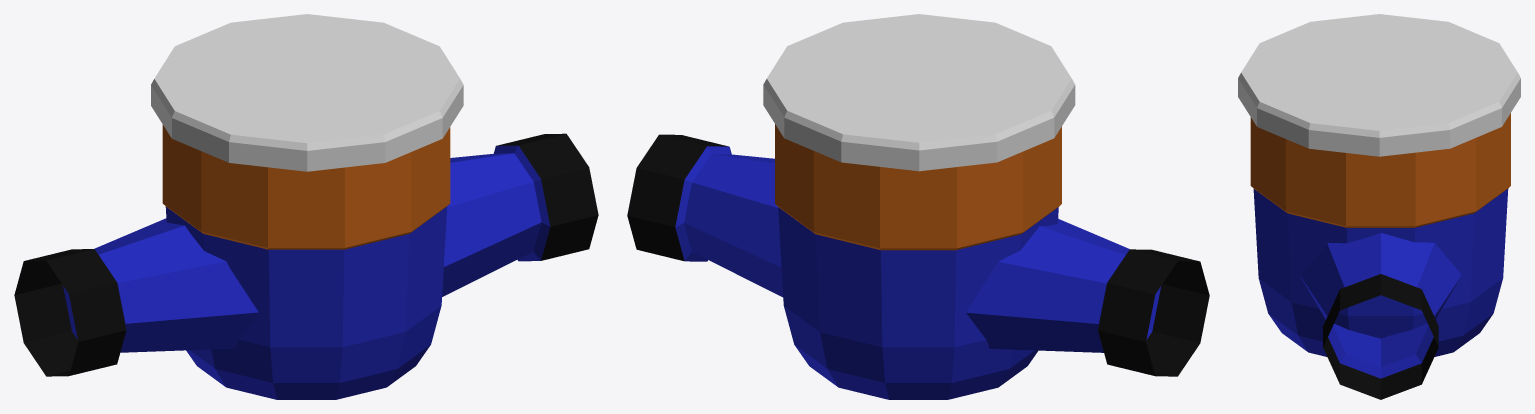
The model's file is MeterBox.fbx.
3 views of the same model, side by side, from view 1: azimuth 30°, elevation 25°; view 2: azimuth 150°, elevation 25°; view 3: azimuth 270°, elevation 25° (orthographic). The views are drawn at different scales.
Visible parts, largest first — view 1: body, lid, r_arm, l_arm; view 2: body, lid, r_arm, l_arm; view 3: body, lid, l_arm.
Boxes of the visible parts, bbox=[...] form: body: bbox=[162, 124, 450, 399]; lid: bbox=[151, 14, 463, 171]; r_arm: bbox=[14, 218, 258, 376]; l_arm: bbox=[442, 133, 598, 296]; body: bbox=[775, 124, 1061, 399]; lid: bbox=[763, 14, 1075, 171]; r_arm: bbox=[966, 219, 1209, 376]; l_arm: bbox=[627, 134, 783, 297]; body: bbox=[1250, 113, 1510, 356]; lid: bbox=[1238, 14, 1520, 156]; l_arm: bbox=[1300, 233, 1461, 399].
Bounding box in the file's own units: 379 × 192 × 197.
